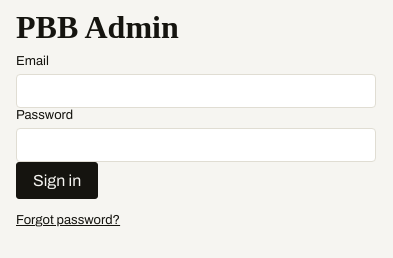
it: Login › shows a generic error when login fails without a server message
Type "x@y.co" into the field labelled "Email".
click(196, 91); type("x@y.co")  # box [16,74,376,108]
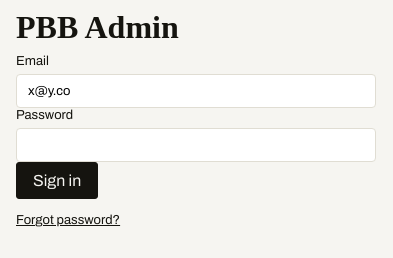
Type "no" into the password field labelled "Password".
click(196, 145); type("no")  # box [16,128,376,162]
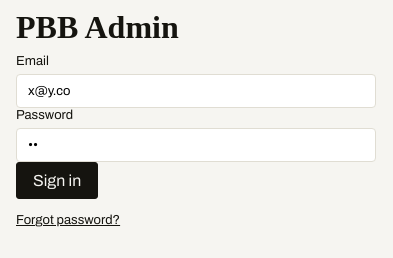
Click the button "Sign in".
click(57, 181)  # box [16,162,98,199]
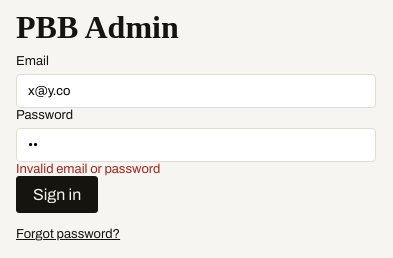
Result: the message reads "Invalid email or password" at [16,162,160,176]
